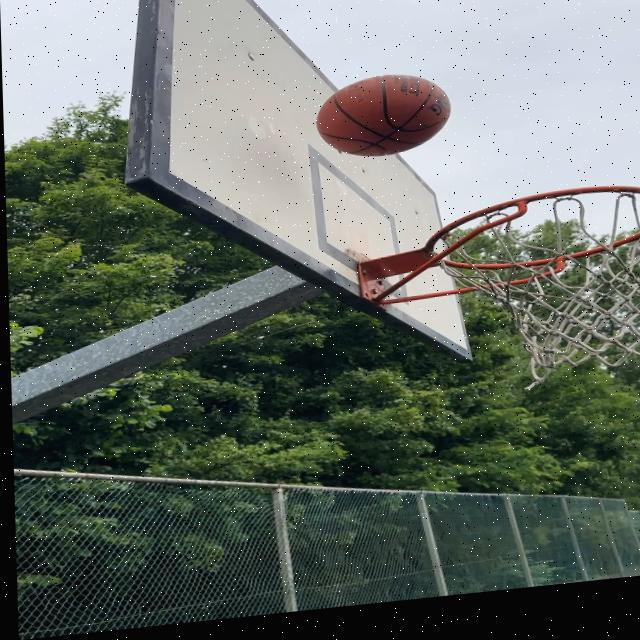Basketball: (315, 69, 449, 165)
